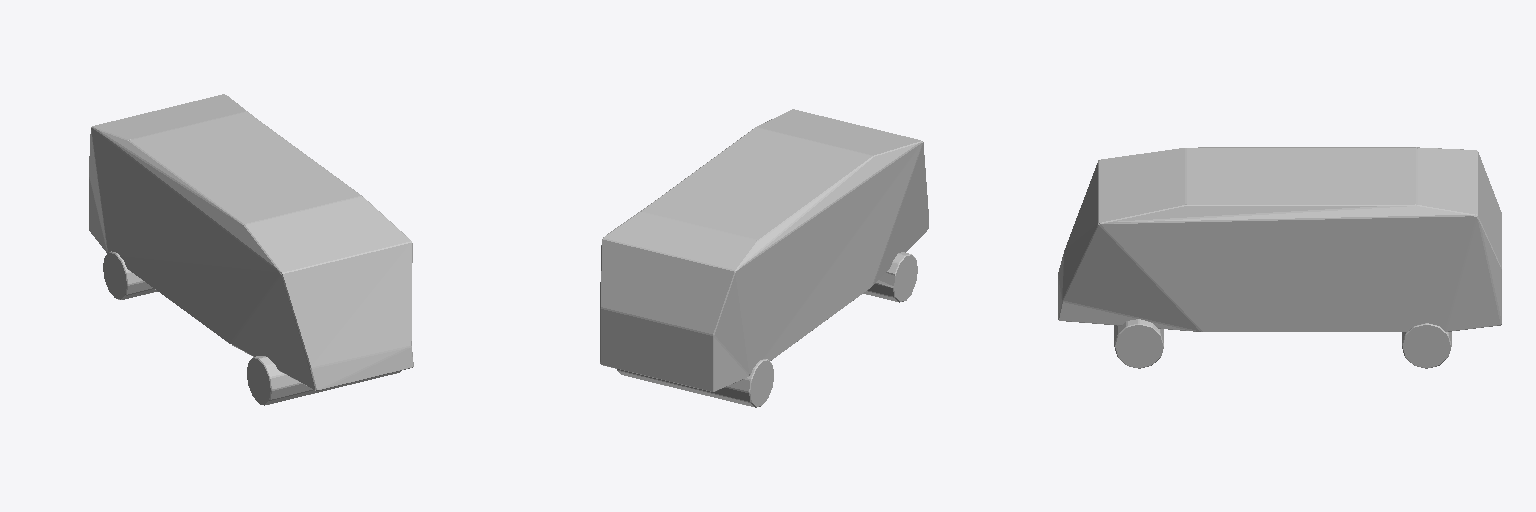
Rendered from tram2.obj.
The picture shows the model from 3 angles: view 1: azimuth 30°, elevation 25°; view 2: azimuth 150°, elevation 25°; view 3: azimuth 270°, elevation 25°; orthographic projection.
Bounding box in the file's own units: 1.4 × 1.59 × 3.98.